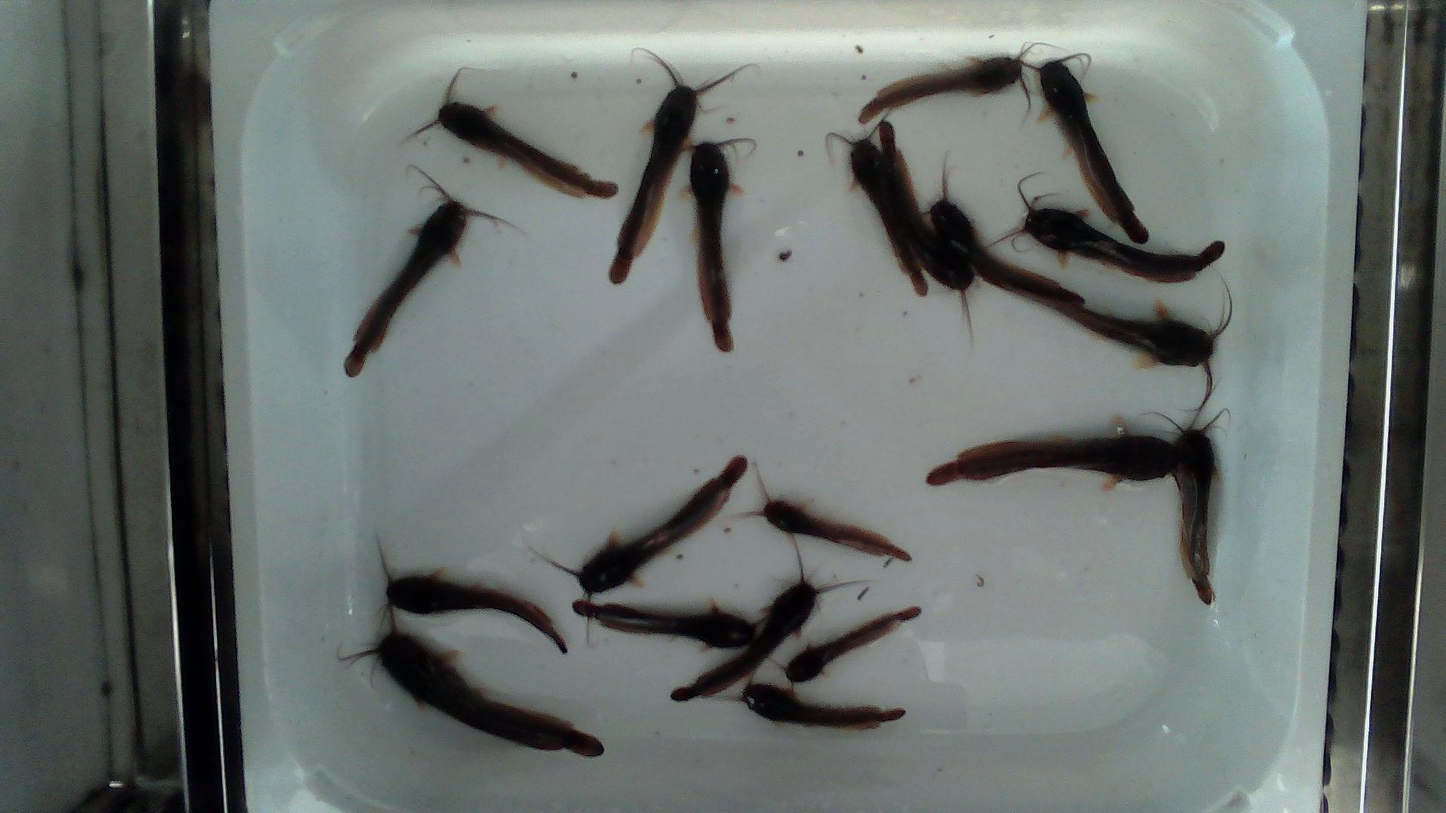lele: (379, 632, 603, 757), (1033, 268, 1232, 405), (918, 154, 1087, 308), (575, 457, 747, 592), (345, 197, 471, 376), (880, 122, 974, 333), (1039, 60, 1147, 242), (929, 419, 1178, 495), (675, 580, 819, 699), (438, 102, 616, 198), (609, 86, 696, 282), (839, 124, 932, 300), (1024, 209, 1224, 282), (387, 574, 566, 651), (860, 57, 1021, 123), (786, 607, 920, 681), (1168, 420, 1219, 603), (761, 500, 910, 560), (691, 142, 732, 352), (586, 603, 756, 647), (742, 684, 905, 728)
